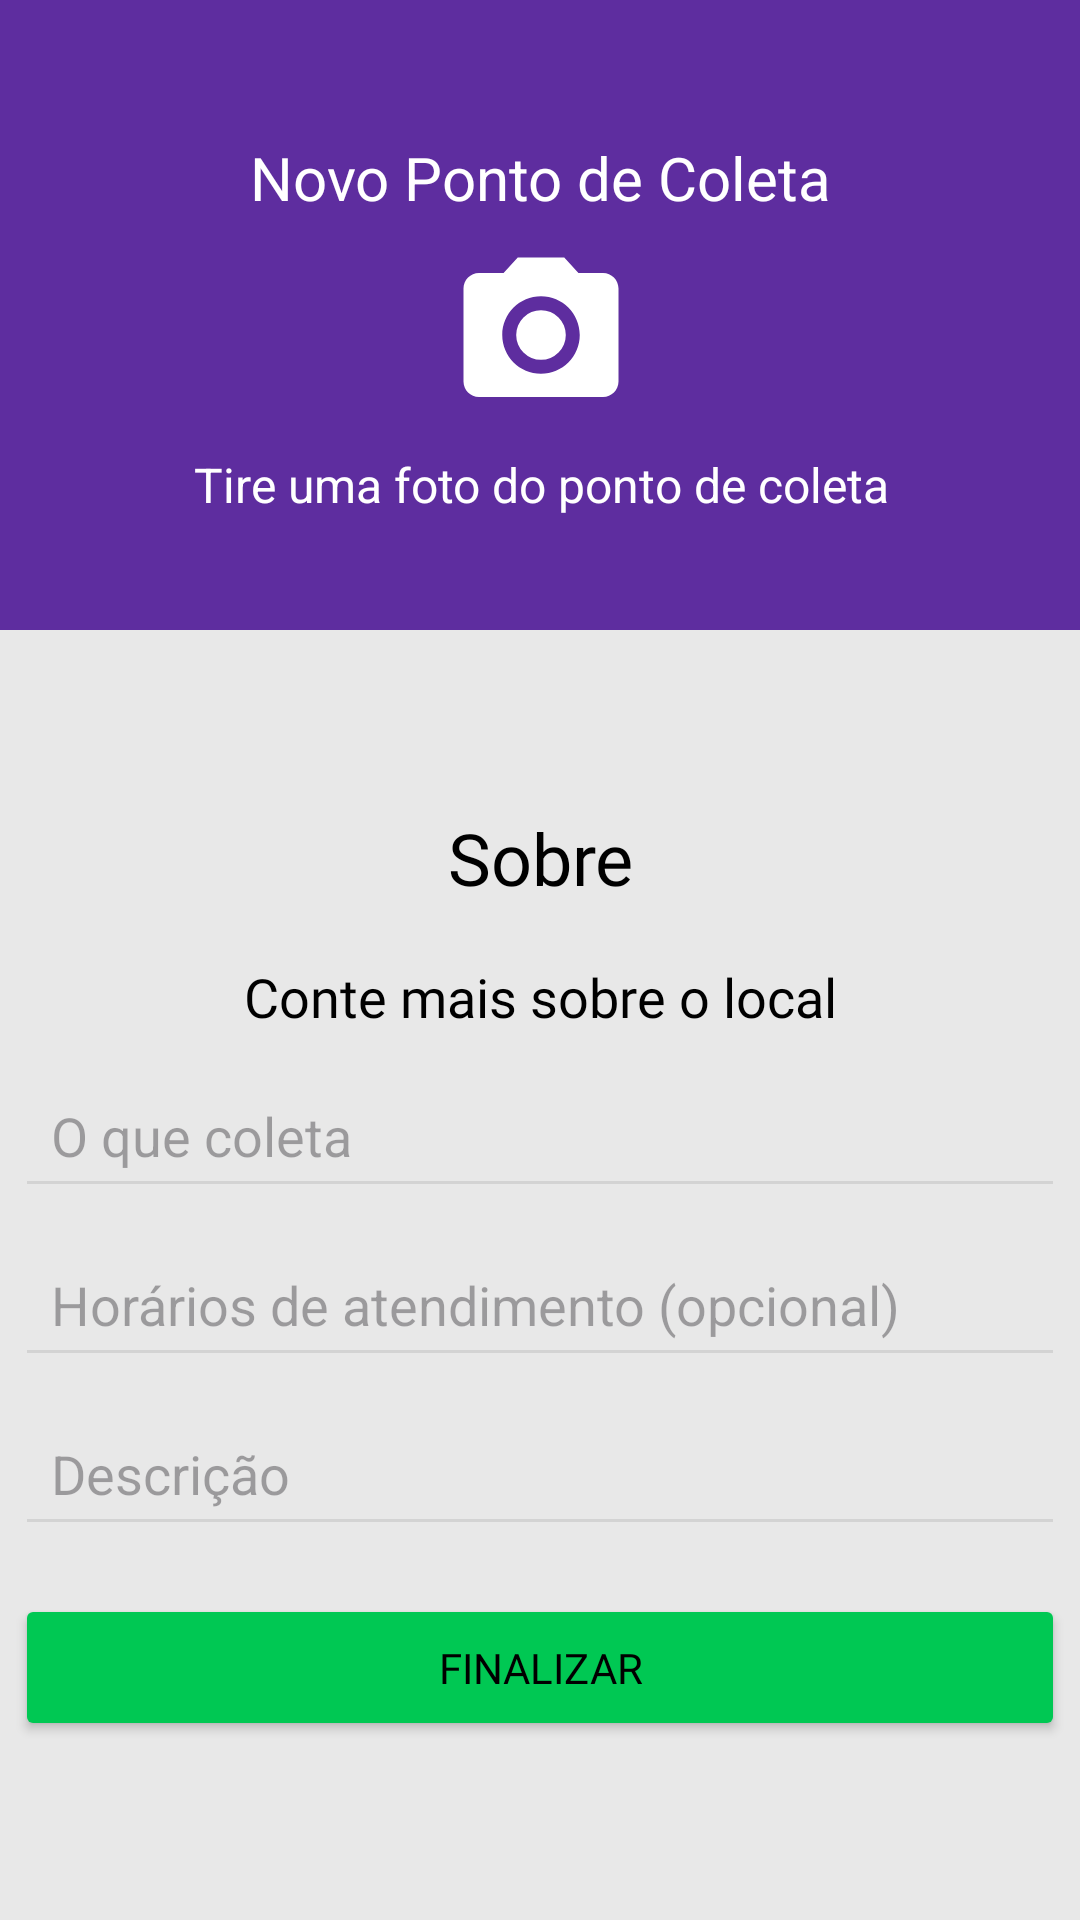

Locate icon controls on the screen. Image size 1080w x 1920h, boxes as (x1, y1, x2, y2).
camera: (463, 257, 619, 397)
